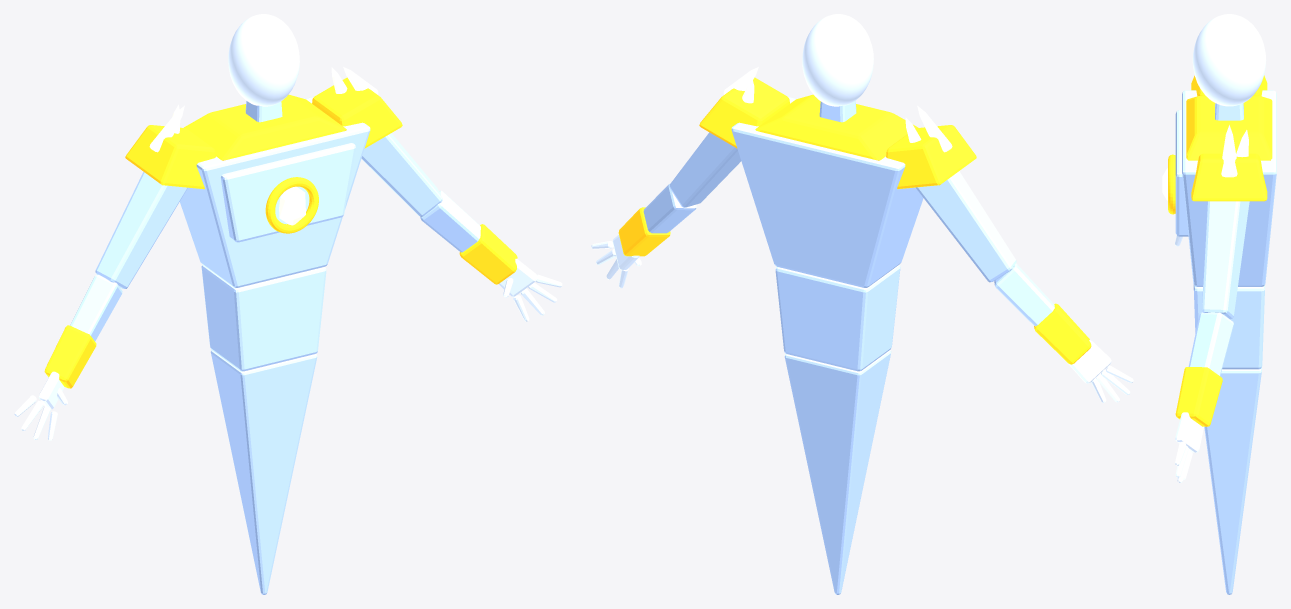
The model's file is light_god.glb.
The picture shows the model from 3 angles, left to right: view 1: azimuth 30°, elevation 25°; view 2: azimuth 150°, elevation 25°; view 3: azimuth 270°, elevation 25°; orthographic projection.
Parts seen in each view (by area): view 1: god_body, god_tail, god_head; view 2: god_body, god_tail, god_head; view 3: god_body, god_tail, god_head.
Boxes of the visible parts, x1,y1,x2,y2 form: god_body: [14, 67, 562, 440]; god_tail: [210, 350, 317, 594]; god_head: [228, 14, 299, 106]; god_body: [591, 67, 1133, 402]; god_tail: [784, 350, 891, 594]; god_head: [802, 14, 873, 106]; god_body: [1162, 75, 1276, 482]; god_tail: [1204, 367, 1261, 594]; god_head: [1192, 14, 1266, 106].
Bounding box in the file's own units: 2.11 × 2.14 × 0.3848.
